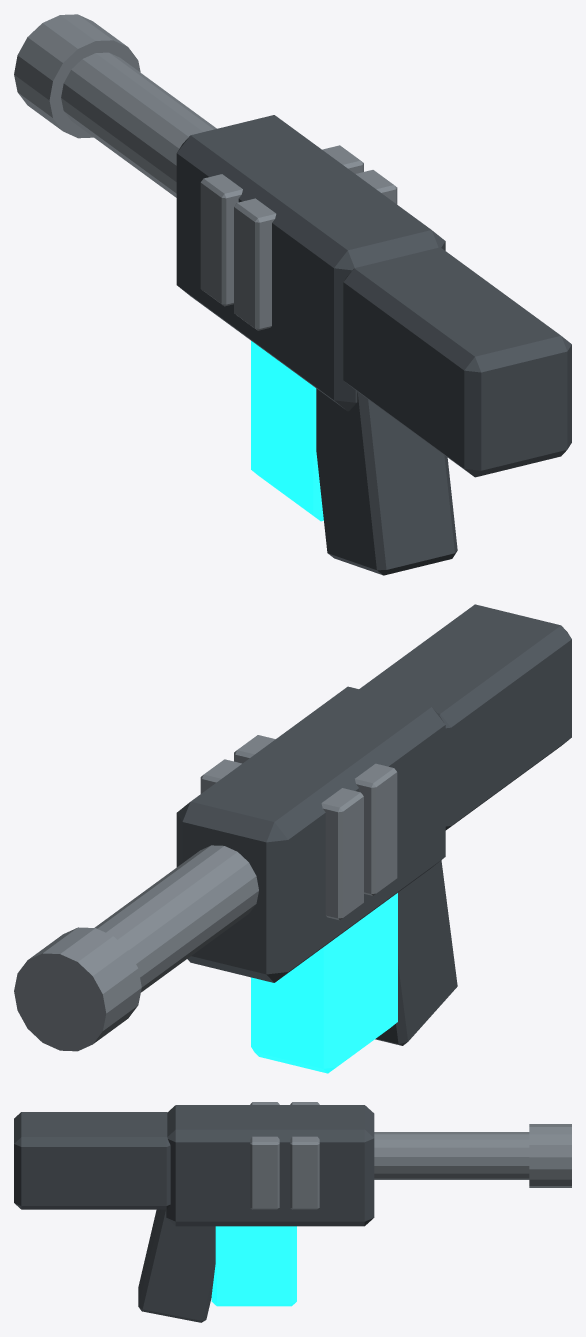
File: WPN_LaserRifle_A_FP_v01.glb
3 views of the same model, one above another, from view 1: azimuth 30°, elevation 25°; view 2: azimuth 150°, elevation 25°; view 3: azimuth 270°, elevation 25° (orthographic). The views are drawn at different scales.
Visible parts, largest first — view 1: MESH_Weapon, MESH_CoolingFins, MESH_EnergyCell; view 2: MESH_Weapon, MESH_EnergyCell, MESH_CoolingFins; view 3: MESH_Weapon, MESH_EnergyCell, MESH_CoolingFins.
Part boxes in pixels (bbox=[...]): MESH_Weapon: bbox=[14, 14, 571, 575]; MESH_CoolingFins: bbox=[200, 145, 397, 330]; MESH_EnergyCell: bbox=[251, 341, 323, 521]; MESH_Weapon: bbox=[14, 604, 571, 1051]; MESH_EnergyCell: bbox=[251, 893, 397, 1073]; MESH_CoolingFins: bbox=[200, 735, 397, 920]; MESH_Weapon: bbox=[14, 1105, 571, 1322]; MESH_EnergyCell: bbox=[211, 1226, 296, 1306]; MESH_CoolingFins: bbox=[250, 1102, 319, 1209].
Size of the model in its own units: 0.185 by 0.4042 by 1.04.
